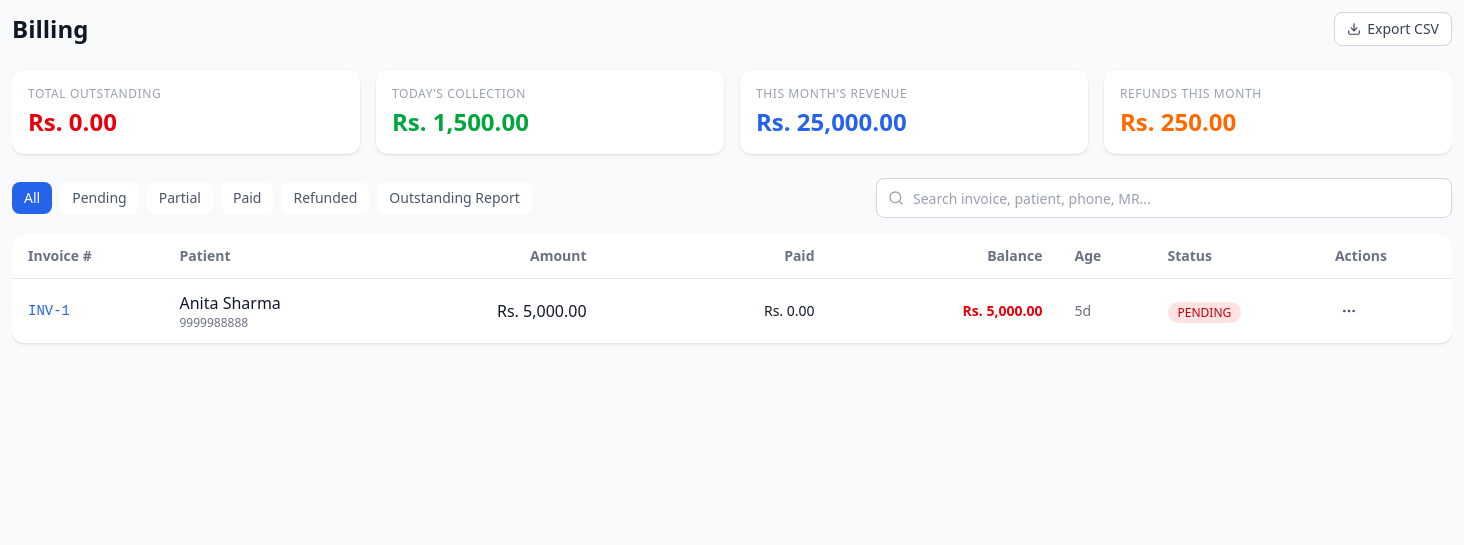
BillingPage — global billing dashboard › renders the TEST badge on the Pay Online menu item when Razorpay is in test mode
Expected: the link "INV-1" is shown, [28,303,70,319]
Click the button named "Actions menu for invoice INV-1" at (1349, 311), box [1335,297,1363,325]
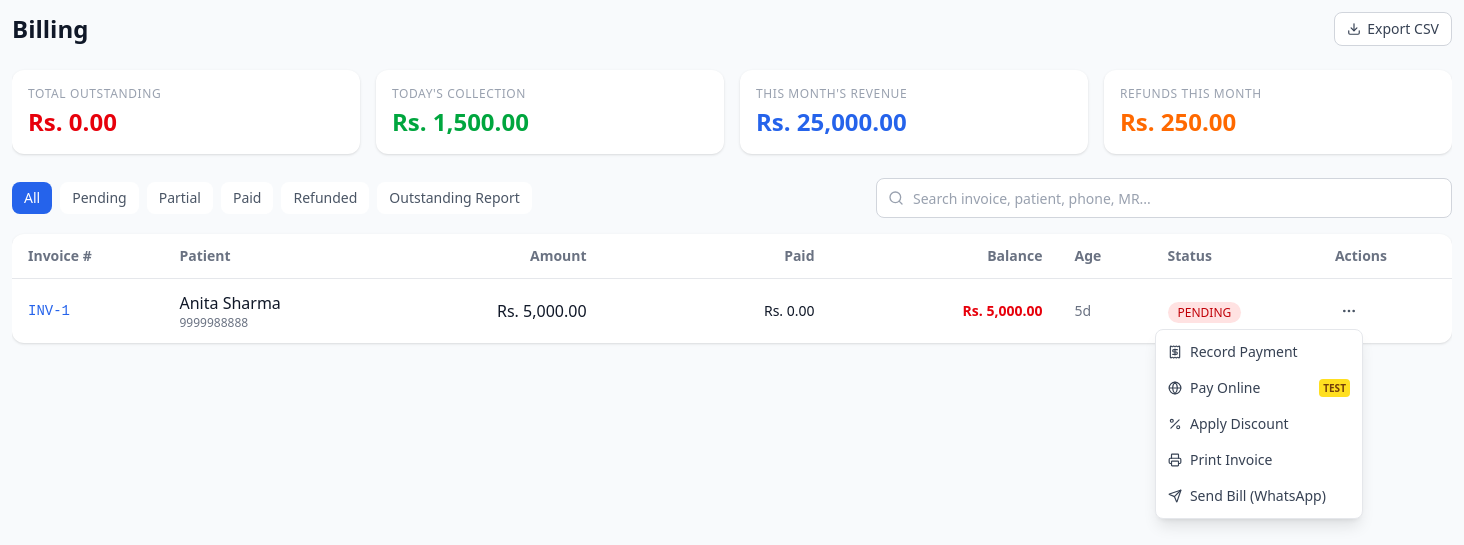
Expected: the text "TEST" is shown, [1319,379,1350,397]
